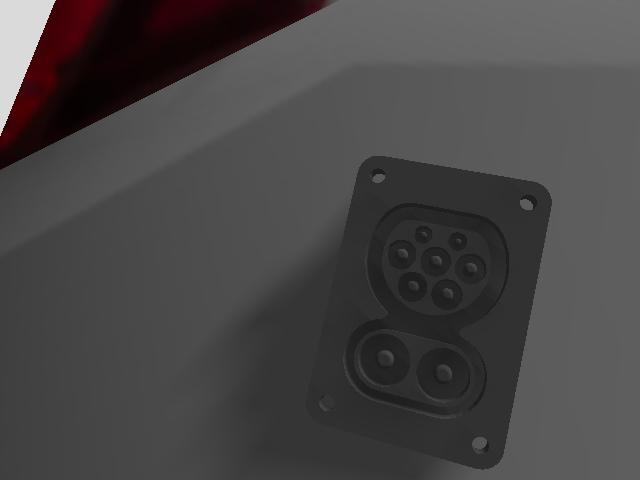EV-socket: (307, 156, 551, 468)
